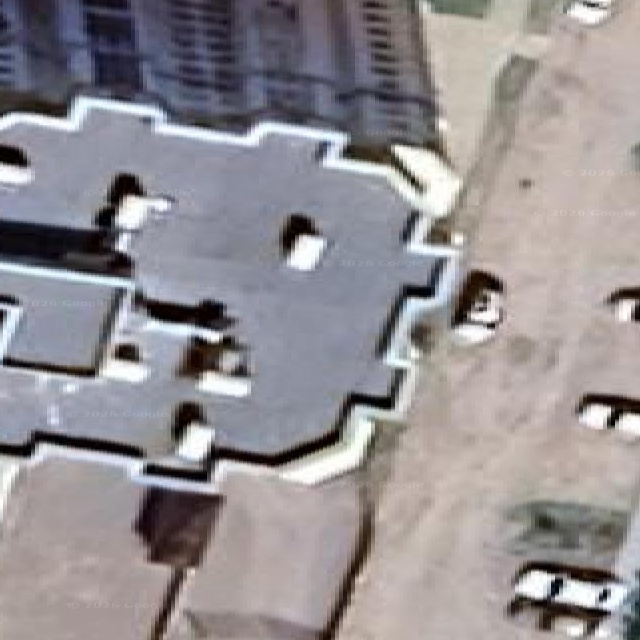car: (507, 563, 627, 635), (452, 270, 503, 343), (576, 393, 639, 435), (566, 0, 612, 24), (606, 287, 639, 320)
